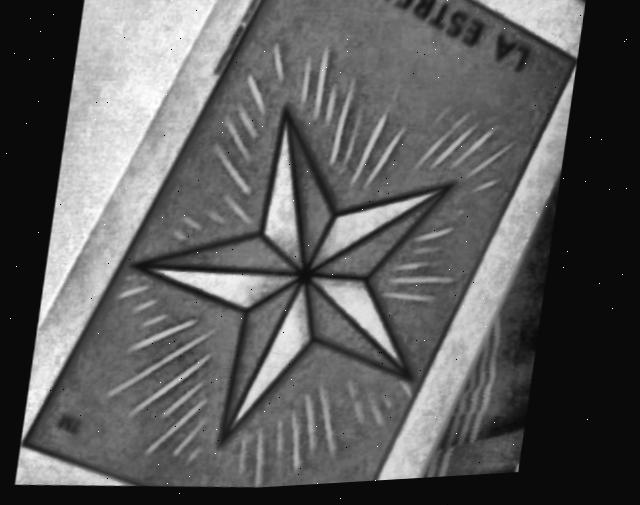La Estrella: (28, 0, 578, 491)
